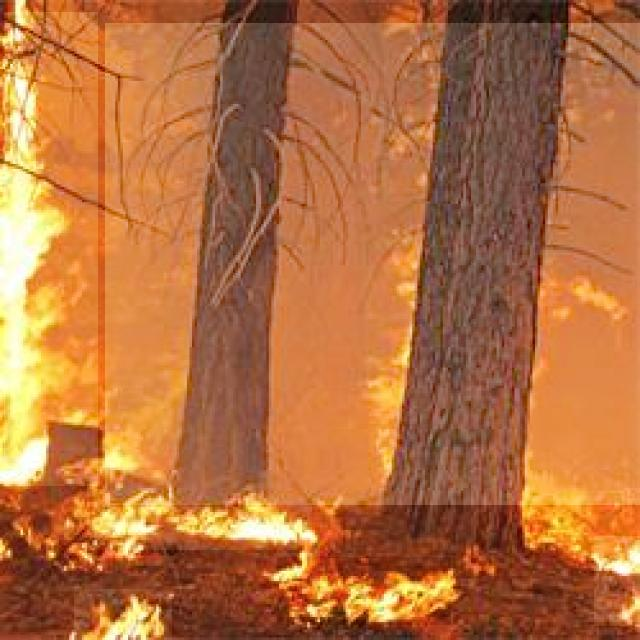Fire: (4, 12, 98, 486), (94, 489, 312, 550), (277, 557, 451, 625), (74, 589, 172, 640), (594, 536, 640, 626)
Smoke: (105, 23, 640, 506)
